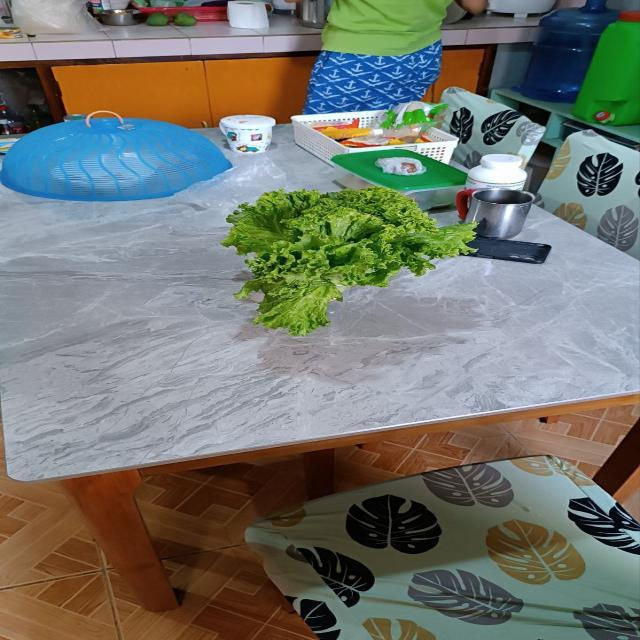Lettuce-Ready-to-Harvest: (213, 183, 454, 331)
